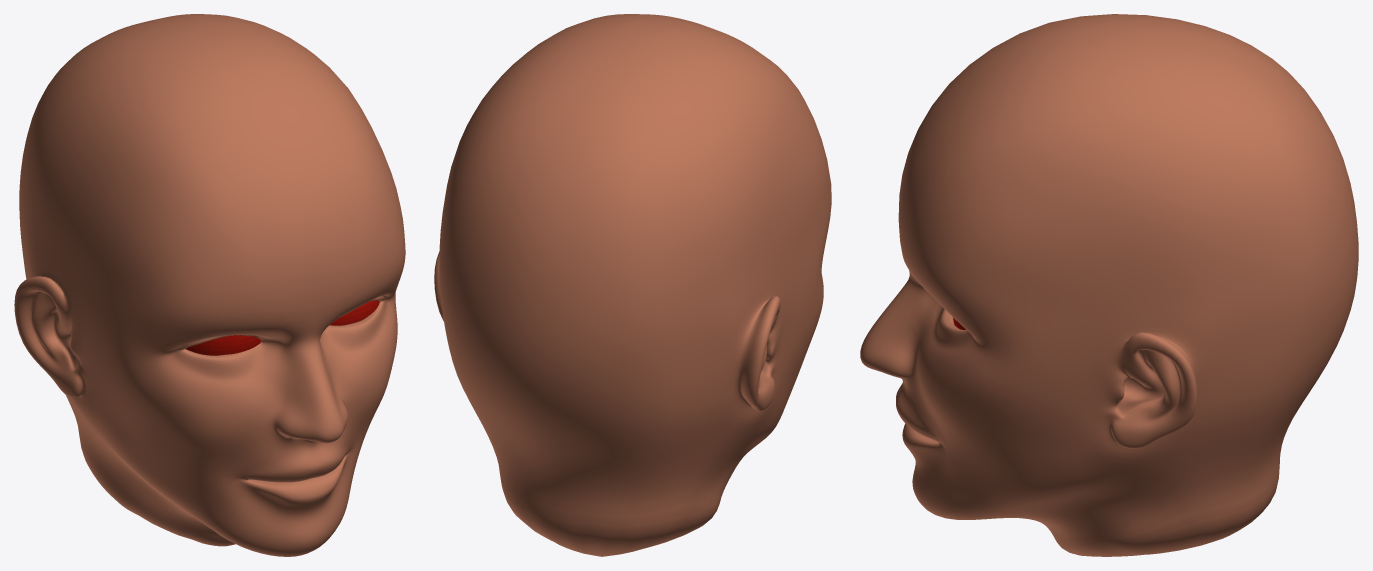
The model's file is base_head.dae.
3 views of the same model, side by side, from view 1: azimuth 30°, elevation 25°; view 2: azimuth 150°, elevation 25°; view 3: azimuth 270°, elevation 25° (orthographic). The views are drawn at different scales.
Parts seen in each view (by area): view 1: Plane, Sphere; view 2: Plane; view 3: Plane.
Part boxes in pixels (bbox=[...]): Plane: bbox=[14, 14, 405, 556]; Sphere: bbox=[185, 300, 379, 355]; Plane: bbox=[434, 14, 831, 556]; Plane: bbox=[860, 14, 1358, 556].
Size of the model in its own units: 6.49 by 8.22 by 9.41.
